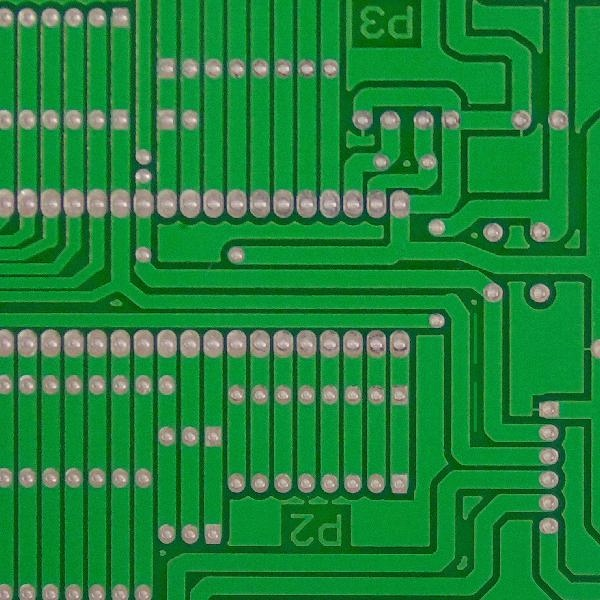spurious_copper: (466, 378, 486, 439), (467, 311, 487, 367)
